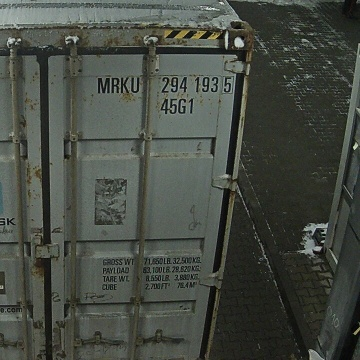serial_id: (98, 76, 232, 93)
